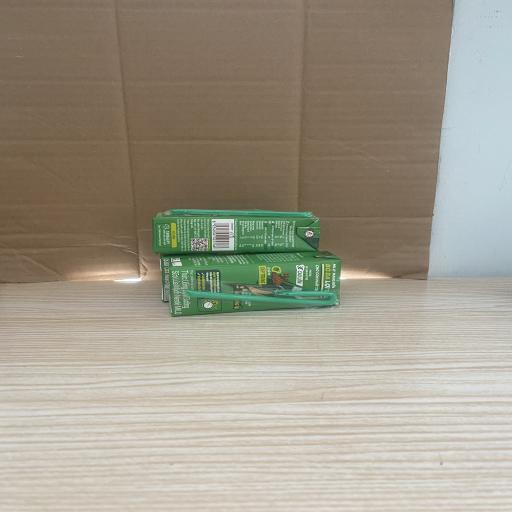milo: (159, 250, 342, 316), (152, 209, 319, 254)
